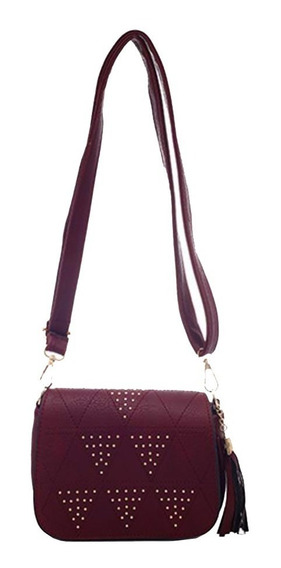cartera: (29, 28, 253, 545)
